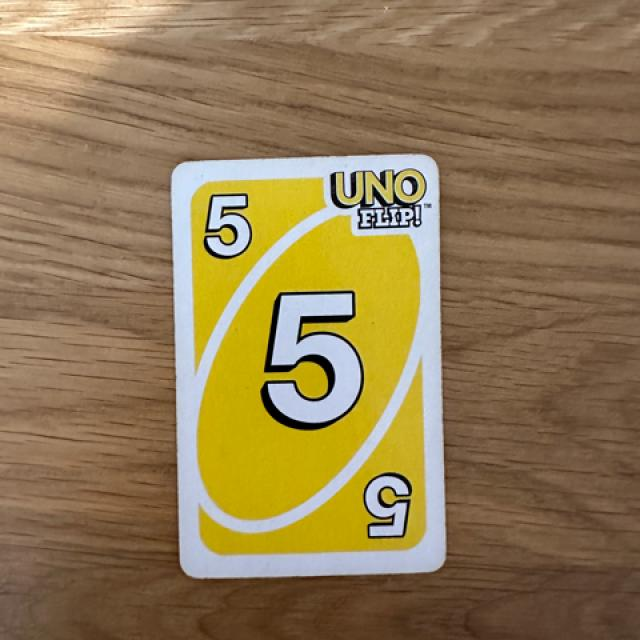lyellow-5: (182, 172, 282, 283)
